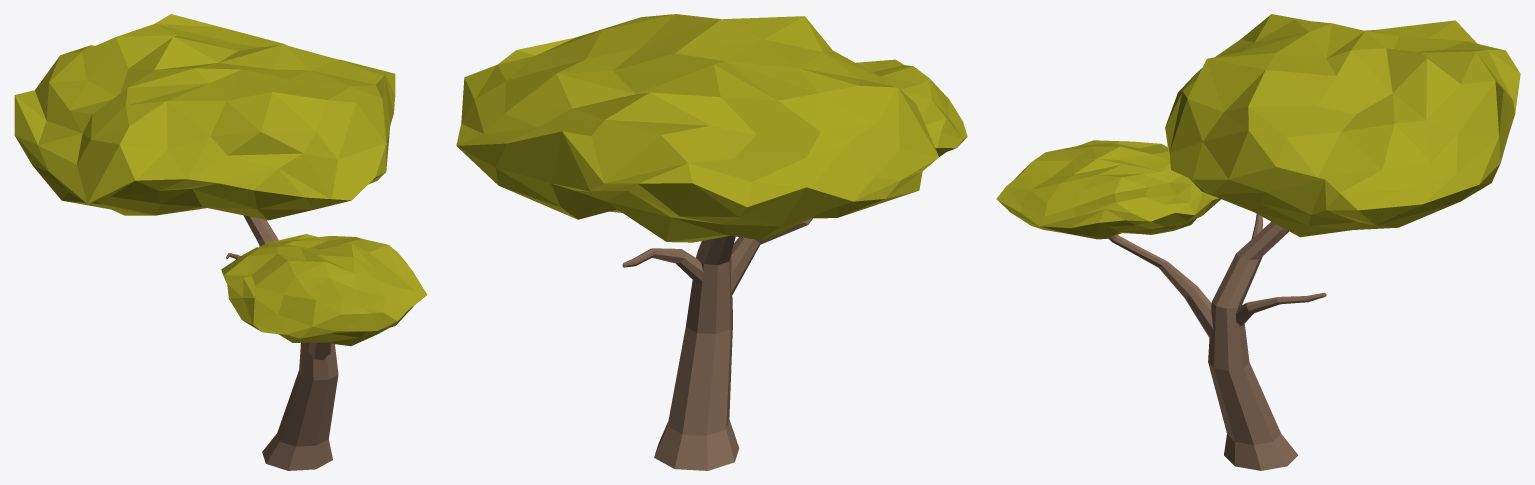
Rendered from Acacia_02.fbx.
3 renders of one model, left to right at view 1: azimuth 30°, elevation 25°; view 2: azimuth 150°, elevation 25°; view 3: azimuth 270°, elevation 25°, orthographic. The views are drawn at different scales.
Parts seen in each view (by area): view 1: tree4.002; view 2: tree4.002; view 3: tree4.002.
Part boxes in pixels (x1=…): tree4.002: x1=14, y1=14, x2=426, y2=470; tree4.002: x1=456, y1=14, x2=967, y2=470; tree4.002: x1=996, y1=14, x2=1520, y2=470.
Size of the model in its own units: 646 by 640 by 809.
